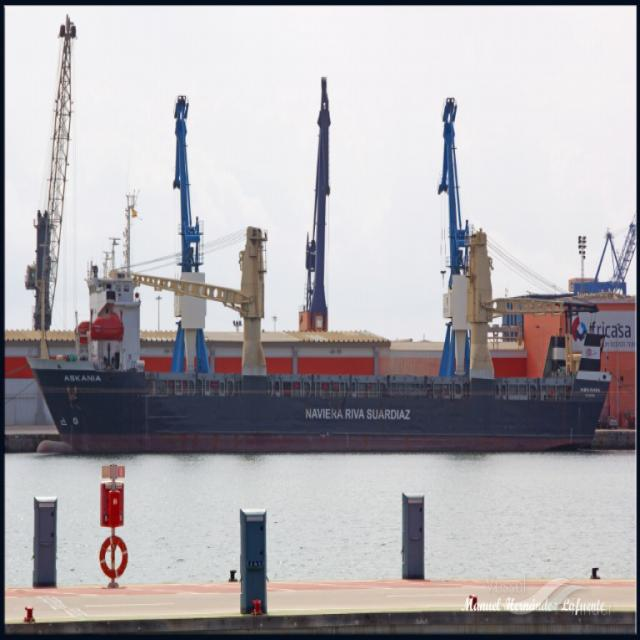Bulk Carrier: (28, 222, 612, 453)
